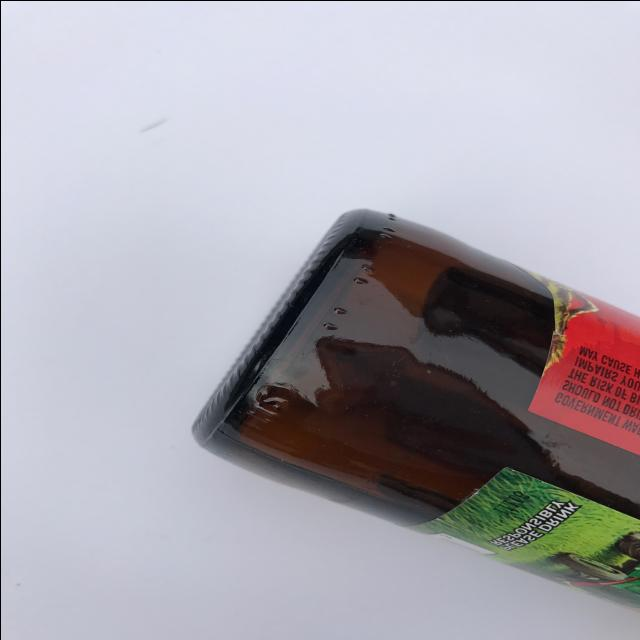glass: (189, 207, 640, 616)
